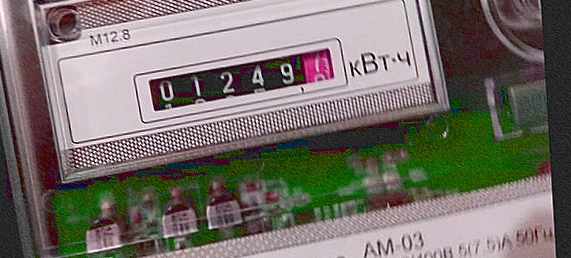0: (154, 74, 175, 101)
1: (186, 71, 202, 97)
2: (216, 67, 237, 94)
4: (247, 59, 267, 87)
7: (307, 48, 323, 72)
9: (276, 57, 296, 83)
screen: (125, 37, 362, 126)
